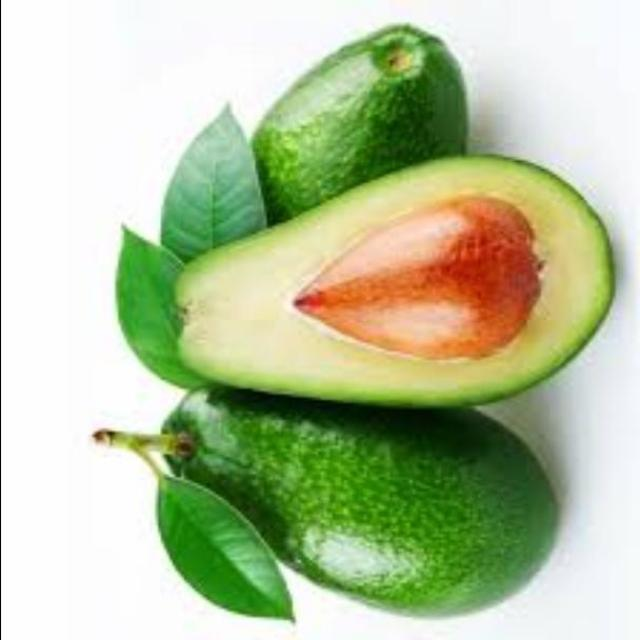Avocado: (110, 384, 622, 639), (142, 170, 640, 419), (232, 17, 480, 310)
